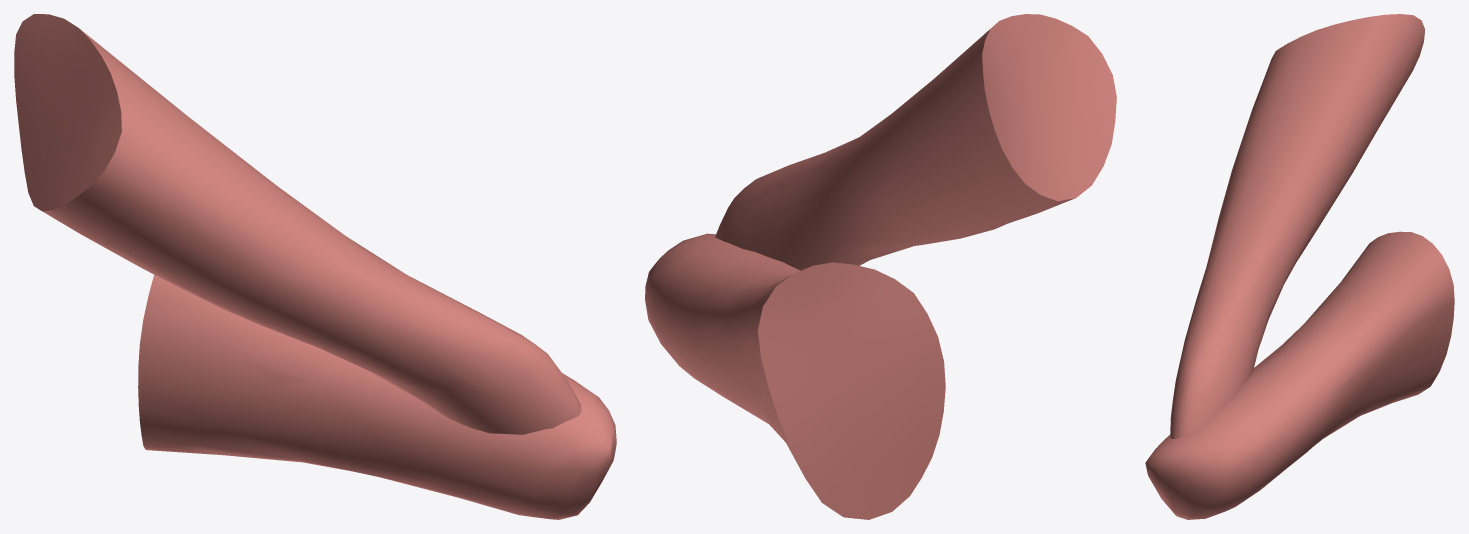
File: fma39316-f_mm3934m.glb
3 renders of one model, left to right at view 1: azimuth 30°, elevation 25°; view 2: azimuth 150°, elevation 25°; view 3: azimuth 270°, elevation 25°, orthographic. The views are drawn at different scales.
Parts seen in each view (by area): view 1: FMA39316-F_MM3934M; view 2: FMA39316-F_MM3934M; view 3: FMA39316-F_MM3934M.
Boxes of the visible parts, <box> form: FMA39316-F_MM3934M: <box>14,14,616,519</box>; FMA39316-F_MM3934M: <box>645,14,1116,519</box>; FMA39316-F_MM3934M: <box>1145,14,1454,519</box>.
Size of the model in its own units: 0.0113 by 0.0111 by 0.00844.
